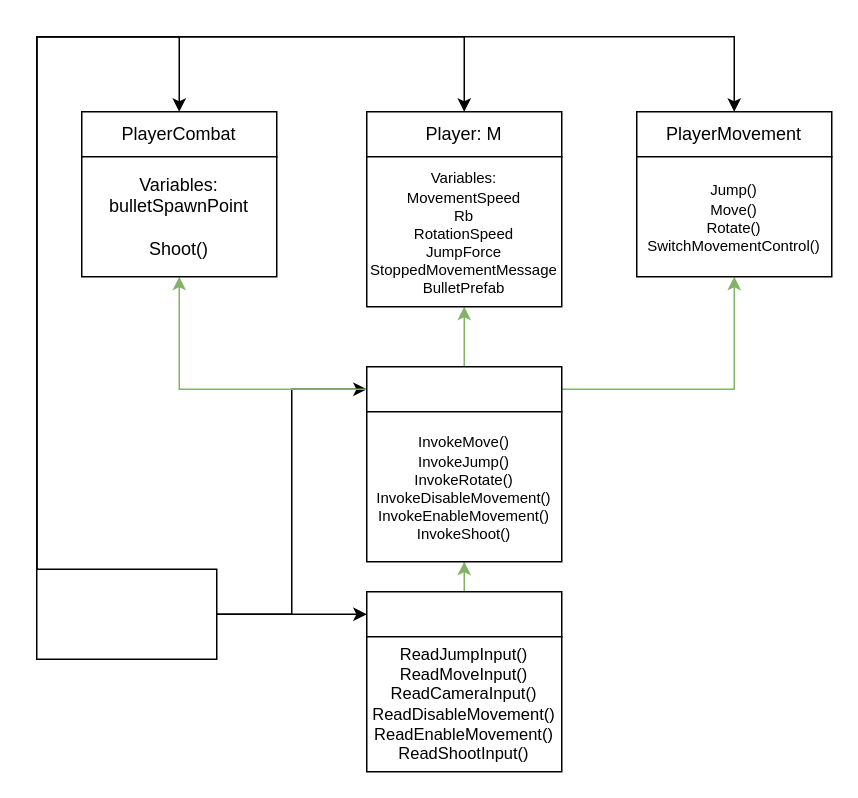
Some shapes in this 858 by 798 pixel diagram are drawn without their labels. Each missing label, with the centre of its shape:
"Bootstrapper: M" goes at [126,613].
"InputListener" goes at [463,613].
"PlayerInvoker" goes at [463,388].
